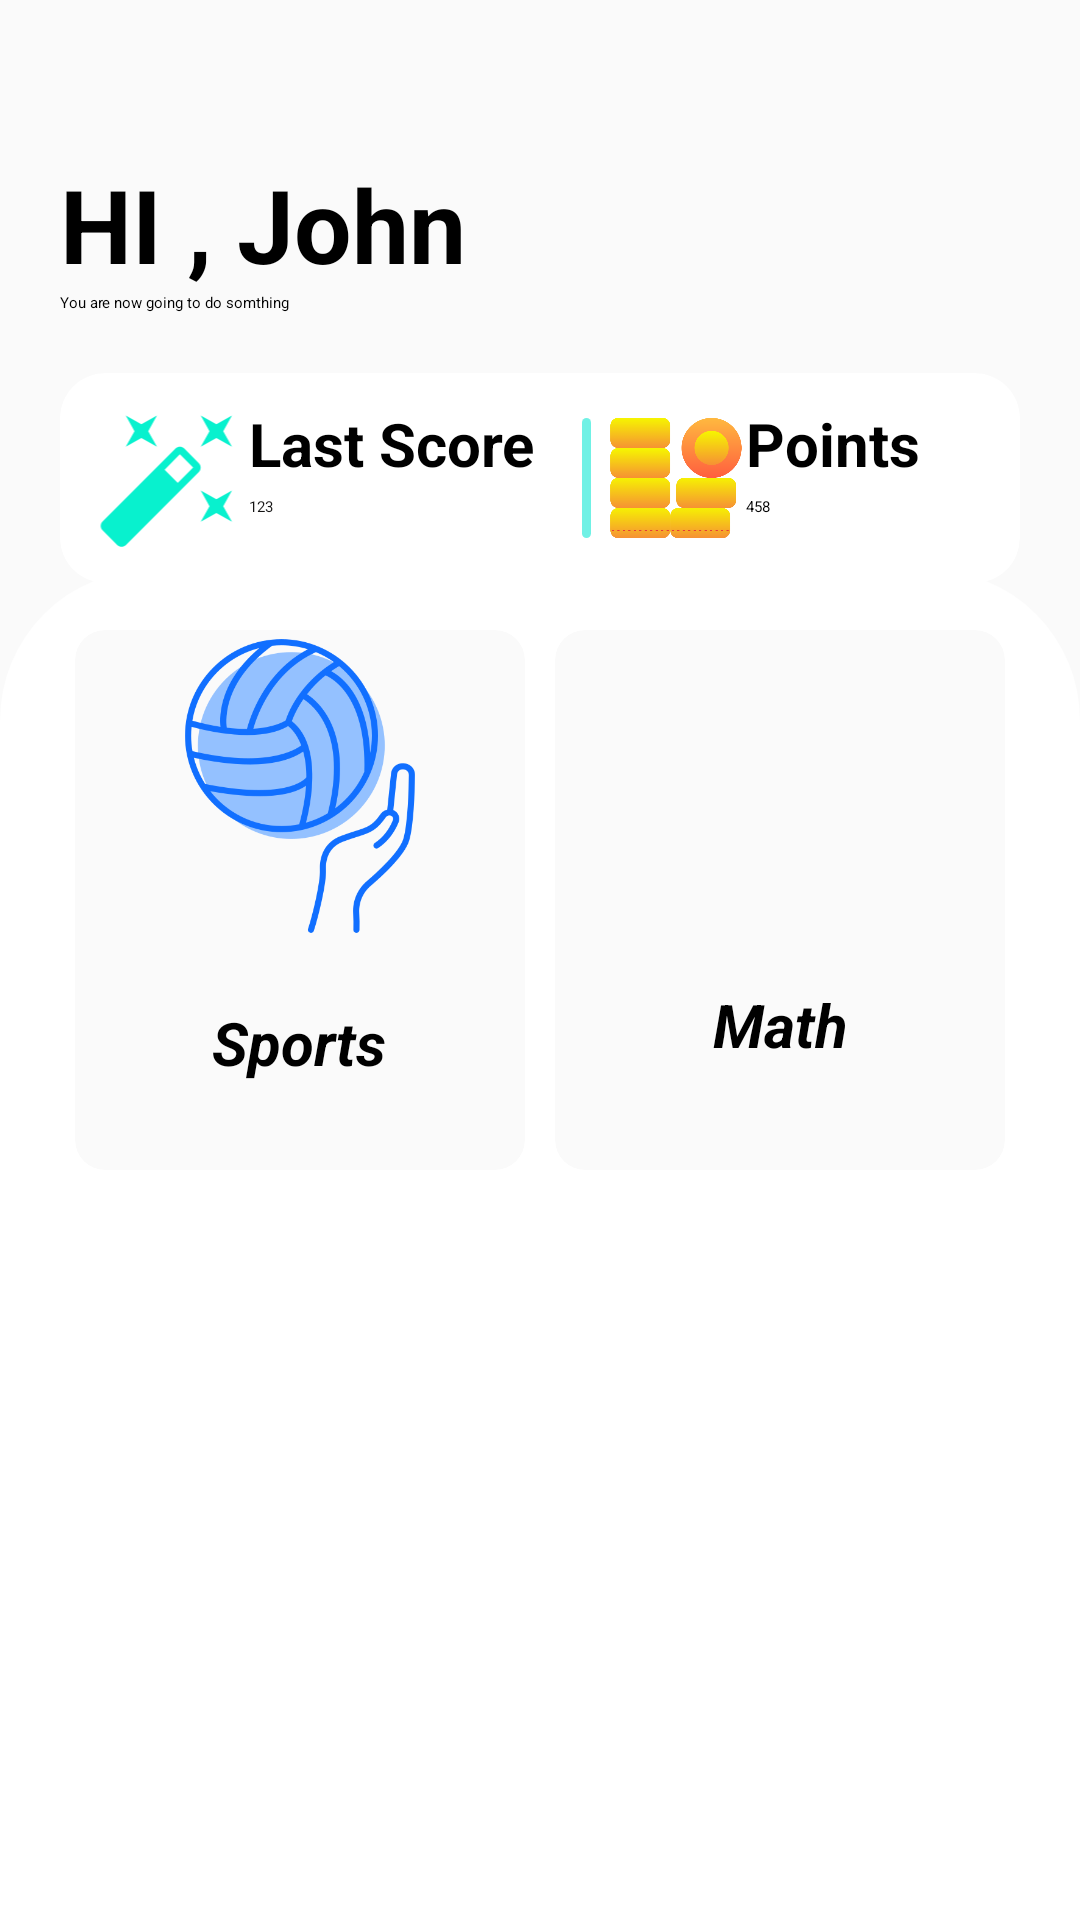

Where to tap for icons on this 1080*1920 app screen, as [x,y]:
ballpic: [300,786]
